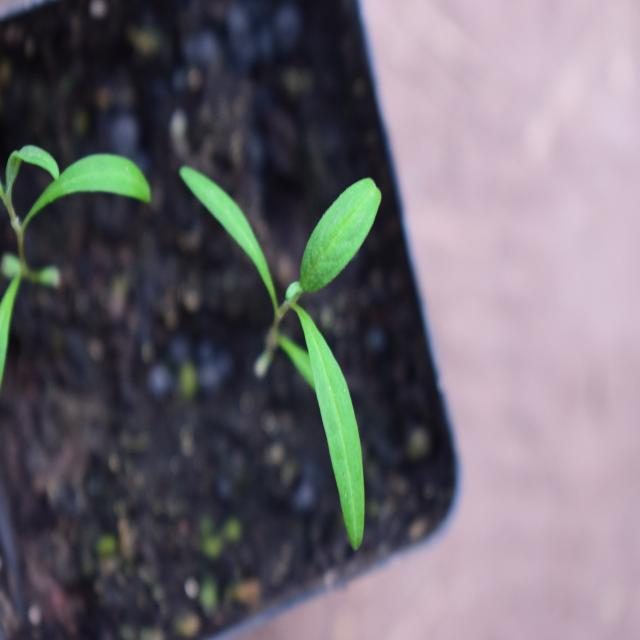white_smart_weed: (186, 146, 396, 544)
